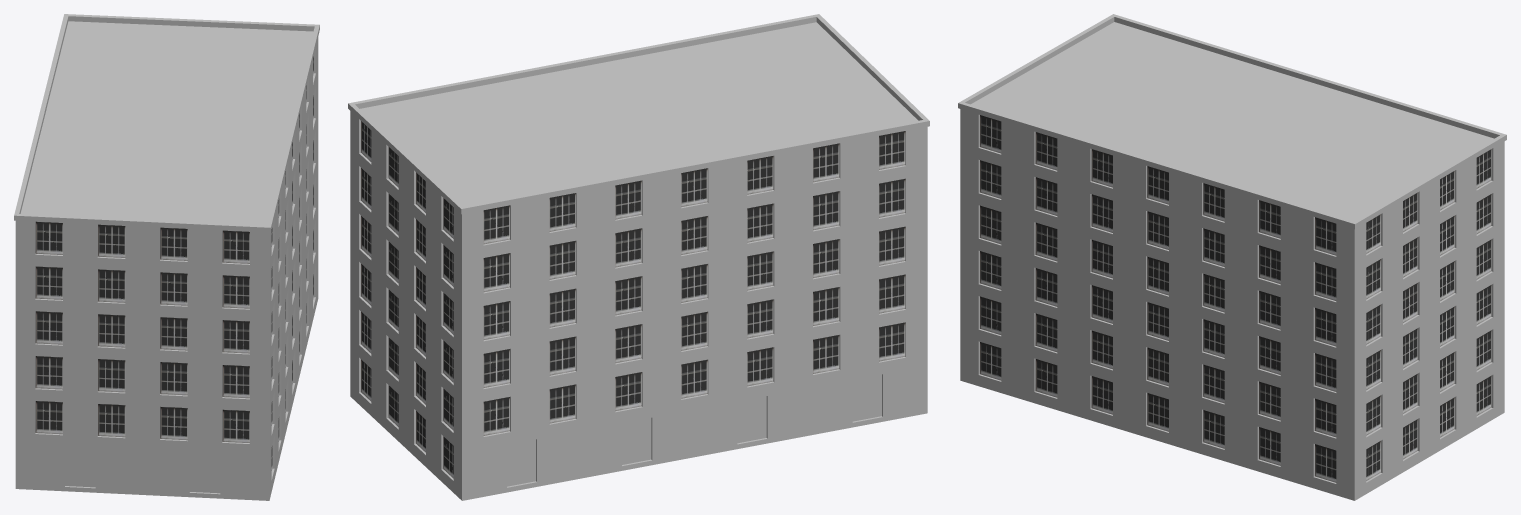
Rendered from Building_103.fbx.
3 views of the same model, side by side, from view 1: azimuth 30°, elevation 25°; view 2: azimuth 150°, elevation 25°; view 3: azimuth 270°, elevation 25° (orthographic). The views are drawn at different scales.
Parts seen in each view (by area): view 1: Brick03, Roofpanels, Window09WhiteEmissionOff, Window09WhiteEmissionOn, Door09EmissionOn, Door09EmissionOff; view 2: Brick03, Roofpanels, Window09WhiteEmissionOff, Window09WhiteEmissionOn, Door09EmissionOff, Door09EmissionOn; view 3: Brick03, Roofpanels, Window09WhiteEmissionOff, Window09WhiteEmissionOn.
Boxes of the visible parts, x1,y1,x2,y2 form: Brick03: (14,14,319,500); Roofpanels: (20,21,313,225); Window09WhiteEmissionOff: (35,56,313,470); Window09WhiteEmissionOn: (35,210,306,434); Door09EmissionOn: (65,446,95,487); Door09EmissionOff: (190,452,220,493); Brick03: (348,14,929,500); Roofpanels: (360,22,917,206); Window09WhiteEmissionOff: (361,121,905,452); Window09WhiteEmissionOn: (361,168,905,478); Door09EmissionOff: (507,374,881,486); Door09EmissionOn: (737,396,766,443); Brick03: (958,14,1506,500); Roofpanels: (971,22,1493,221); Window09WhiteEmissionOff: (980,115,1491,482); Window09WhiteEmissionOn: (1035,194,1491,465).
Bounding box in the file's own units: 2204 × 1357 × 2431.
